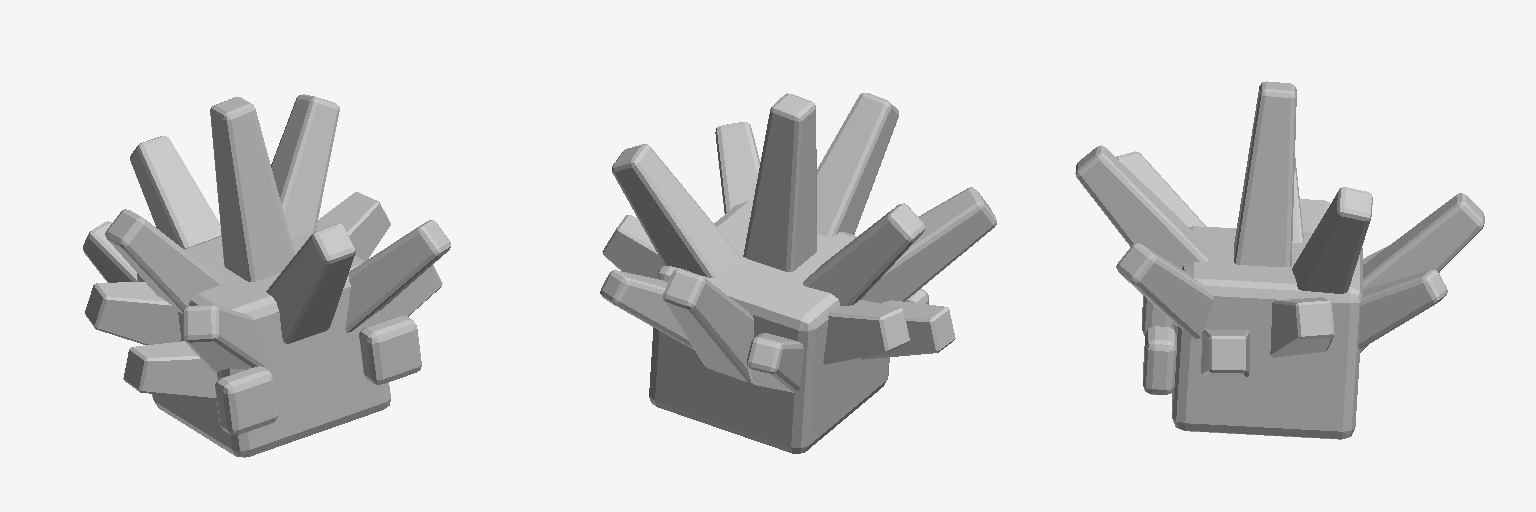
File: Hedgehog.obj
3 views of the same model, side by side, from view 1: azimuth 30°, elevation 25°; view 2: azimuth 150°, elevation 25°; view 3: azimuth 270°, elevation 25° (orthographic).
Visible parts, largest first — view 1: Hedgehog_Cube.209; view 2: Hedgehog_Cube.209; view 3: Hedgehog_Cube.209.
Part boxes in pixels (x1,y1,x2,y2): Hedgehog_Cube.209: (83,94,450,457); Hedgehog_Cube.209: (600,93,996,453); Hedgehog_Cube.209: (1075,81,1484,439).
Bounding box in the file's own units: 1.05 × 1.06 × 1.22.